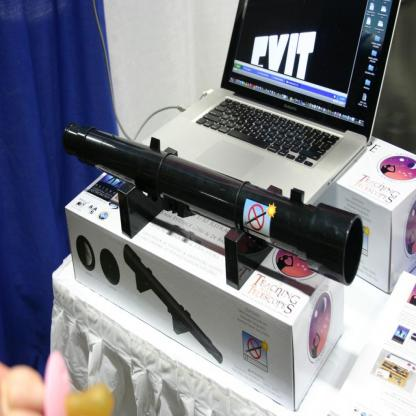board: (141, 0, 401, 207)
